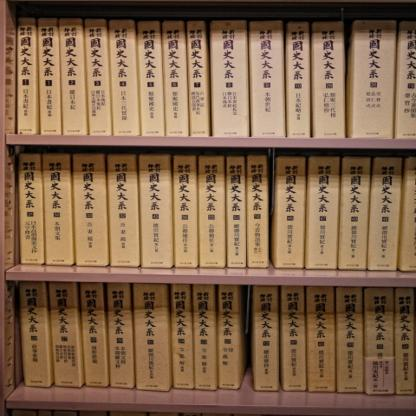book: (9, 33, 416, 392)
